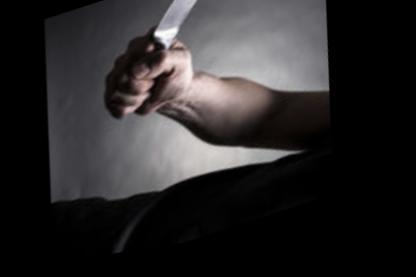knife: (86, 0, 266, 101)
